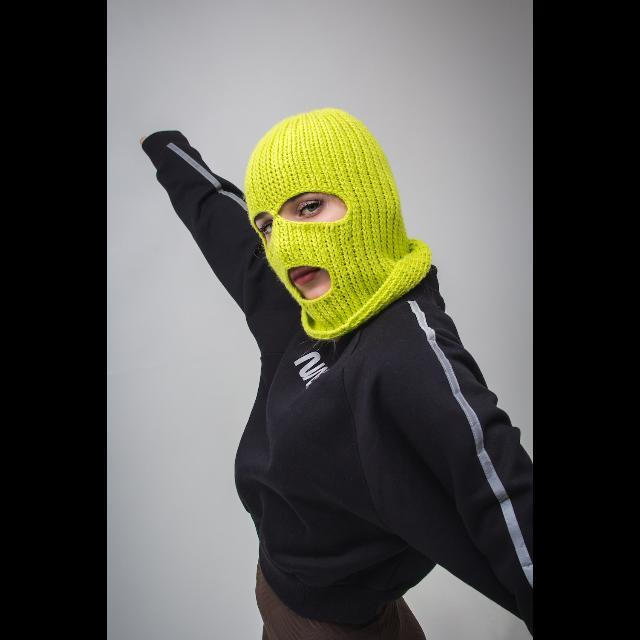criminal: (139, 105, 535, 640)
